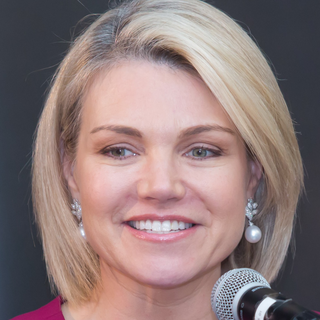eye: (176, 140, 226, 166), (95, 140, 141, 167)
